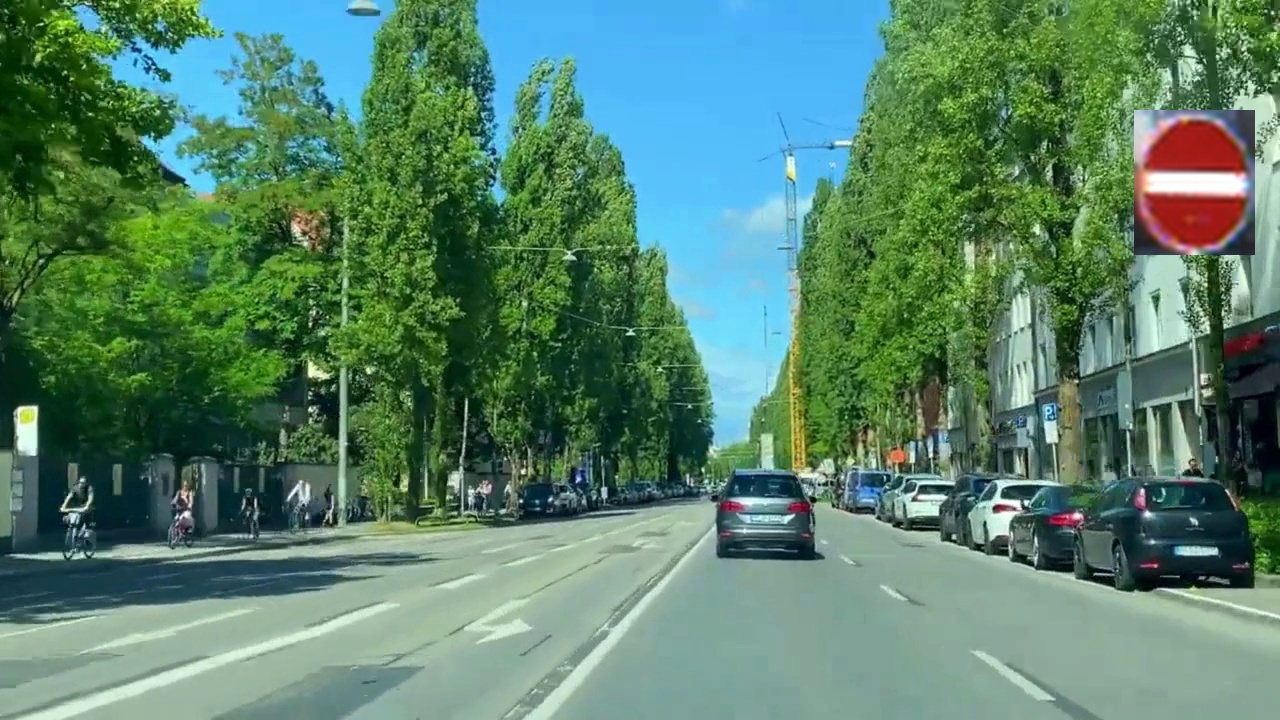No entry: (1134, 110, 1255, 255)
